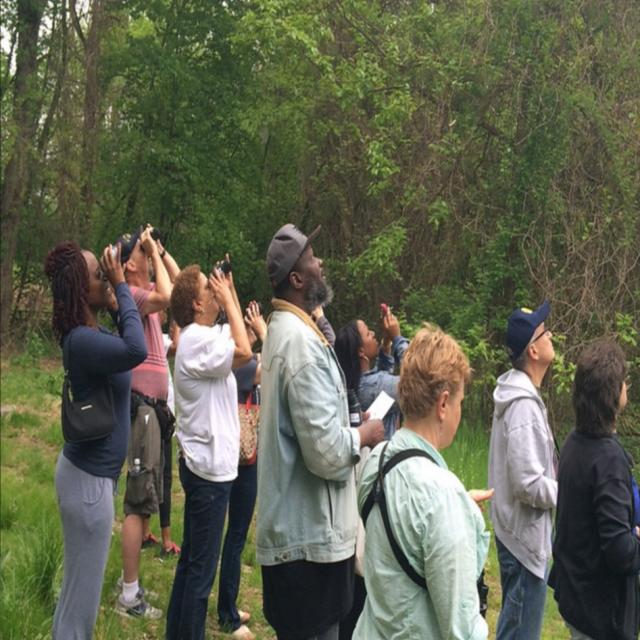body: (249, 219, 388, 639), (350, 319, 496, 638), (40, 234, 151, 639), (161, 249, 257, 639), (542, 328, 639, 639), (109, 220, 182, 627), (483, 294, 563, 640), (210, 297, 268, 639), (333, 298, 412, 449), (138, 306, 184, 564), (311, 296, 344, 354)
